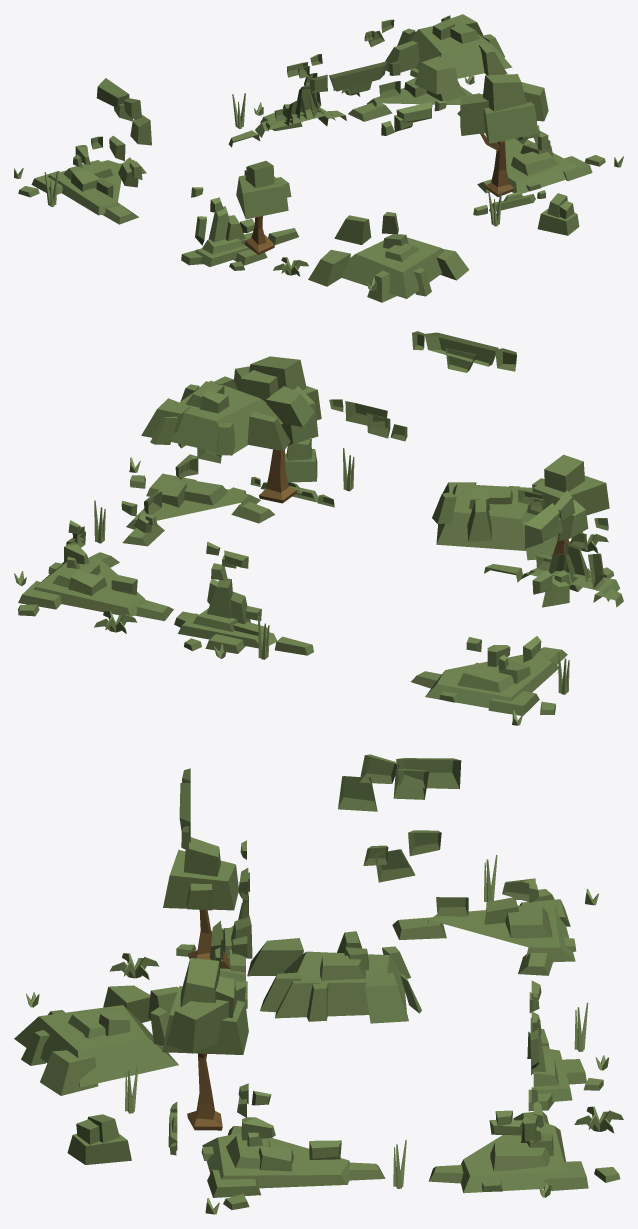
Rendered from SA_Bld_TownHall_Growth_01.gltf.
3 renders of one model, top to bottom at view 1: azimuth 30°, elevation 25°; view 2: azimuth 150°, elevation 25°; view 3: azimuth 270°, elevation 25°, orthographic. The views are drawn at different scales.
Visible parts, largest first — view 1: SA_Bld_TownHall_Growth_01; view 2: SA_Bld_TownHall_Growth_01; view 3: SA_Bld_TownHall_Growth_01.
Part boxes in pixels (<box>): SA_Bld_TownHall_Growth_01: <box>14,14,623,302</box>; SA_Bld_TownHall_Growth_01: <box>14,331,623,725</box>; SA_Bld_TownHall_Growth_01: <box>14,754,623,1214</box>.
Bounding box in the file's own units: 36.61 × 13.46 × 29.23.
Materials: 1 (1 with a texture image).
